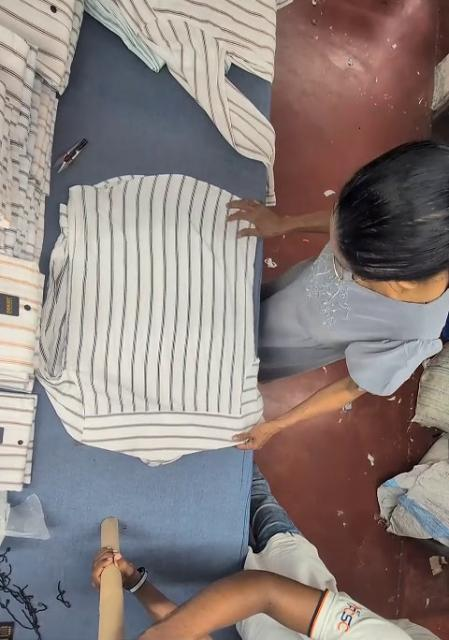new-garment: (37, 174, 262, 464)
